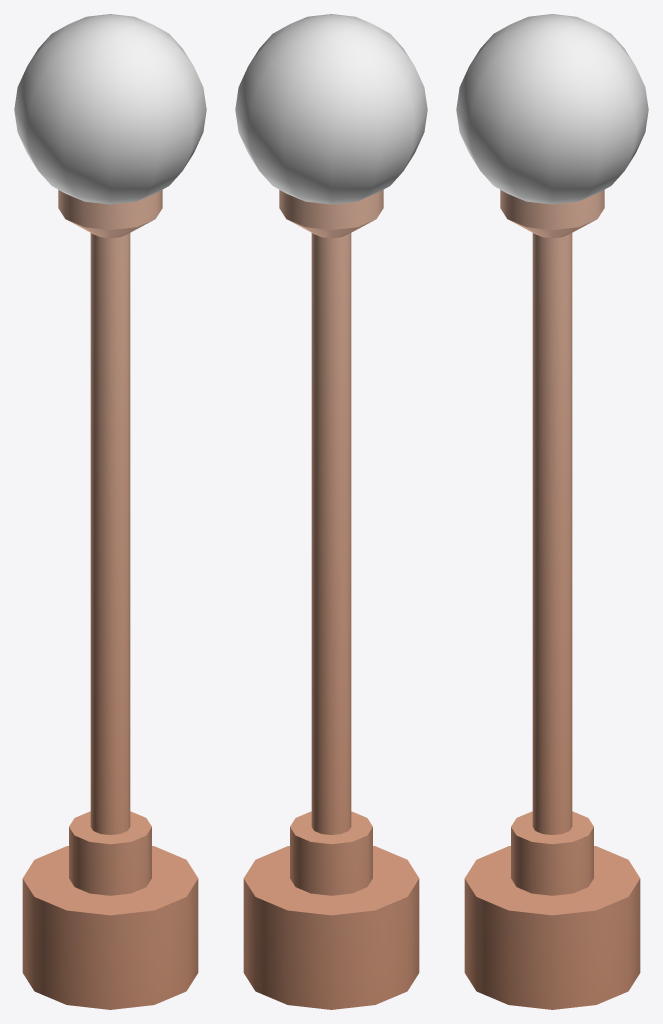
The model's file is StreetLight.fbx.
3 renders of one model, left to right at view 1: azimuth 30°, elevation 25°; view 2: azimuth 150°, elevation 25°; view 3: azimuth 270°, elevation 25°, orthographic.
Visible parts, largest first — view 1: StreetLight; view 2: StreetLight; view 3: StreetLight.
Boxes of the visible parts, left/top/right/bottom form: StreetLight: left=14, top=14, right=206, bottom=1009; StreetLight: left=235, top=14, right=427, bottom=1009; StreetLight: left=456, top=14, right=648, bottom=1009.
Size of the model in its own units: 24.04 by 131 by 24.04.
